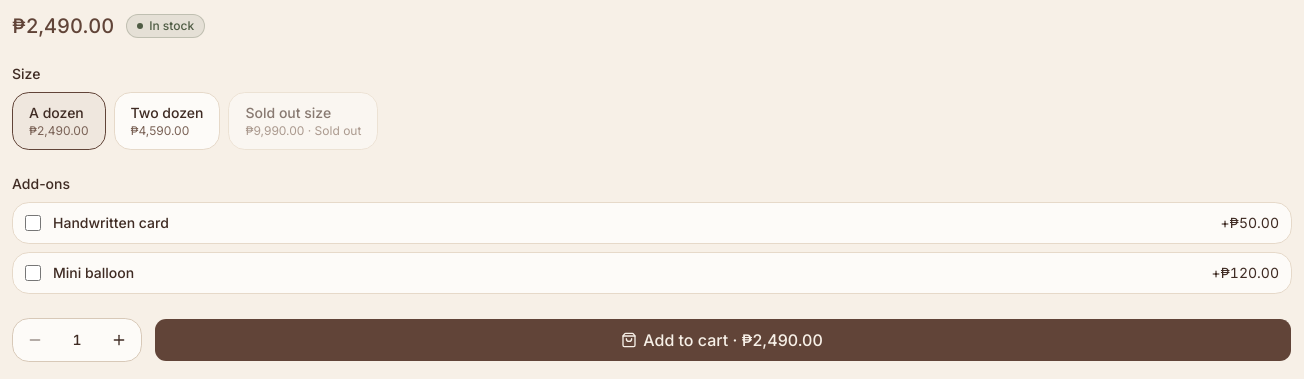
Test case: AddToCartForm › disables the button for sold-out variants
The width and height of the screenshot is (1304, 379).
Click the radio button labelled "Sold out size ₱9,990.00 · Sold out" at (303, 121), box [228, 92, 378, 150]
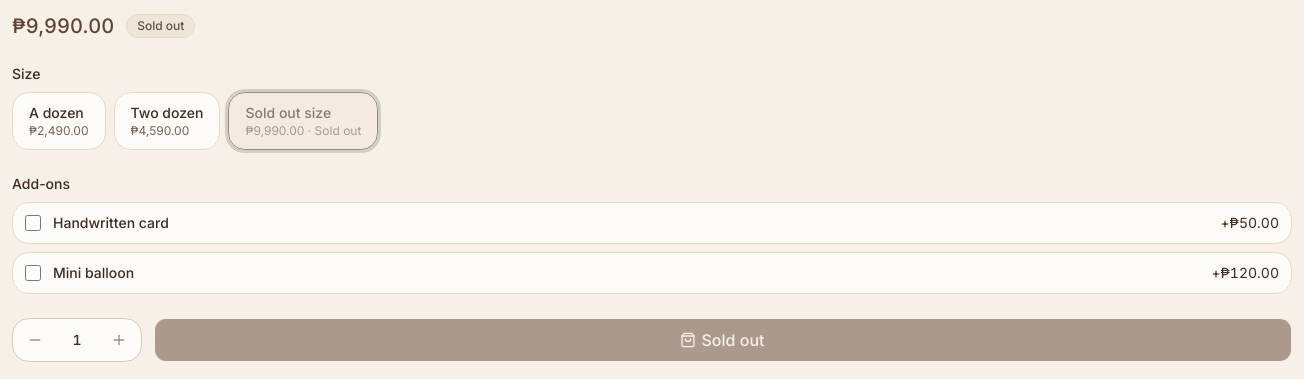
Expected: the button "Sold out" is disabled, [154, 318, 1292, 362]
